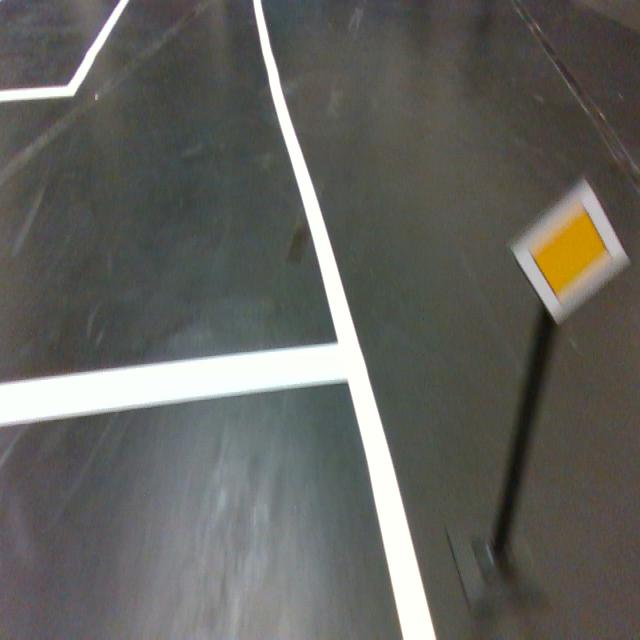priority-sign: (508, 173, 632, 329)
